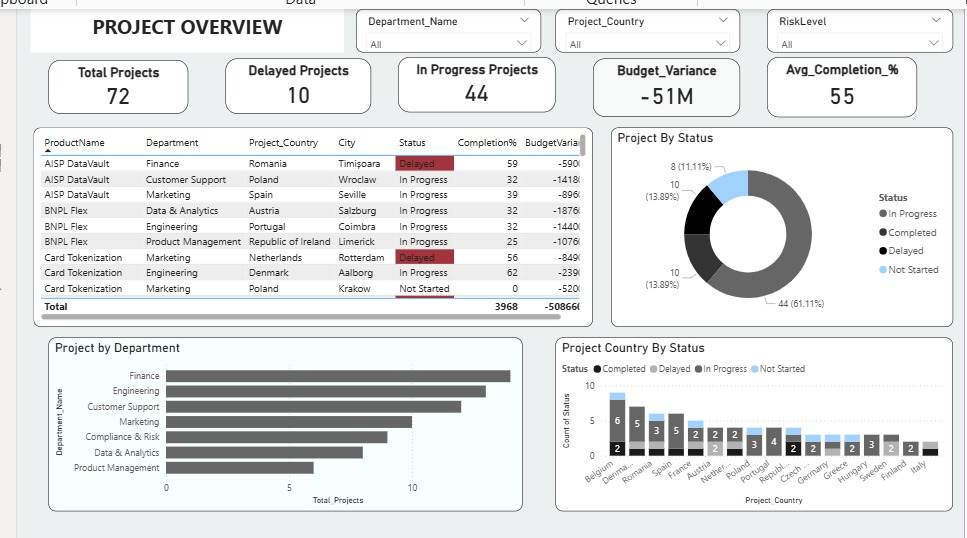

Layout of this report page (visuals, bound fields, positions):
{"tool":"powerbi","page":{"name":"Project Analysis","canvas":[1280,720],"ordinal":0},"visuals":[{"type":"card","title":"Total Projects","fields":{"Values":["measure.Total_Projects"]},"box":[42.5,68.9,188.4,72.9],"z":0},{"type":"card","title":"Delayed Projects","fields":{"Values":["measure.Delayed_Projects"]},"box":[281.5,66.8,196.5,74.9],"z":1000},{"type":"card","title":"In Progress Projects","fields":{"Values":["measure.Projects_On_Track"]},"box":[514.4,64.8,212.7,74.9],"z":2000},{"type":"card","title":"Avg_Completion_%","fields":{"Values":["measure.Average_Completion_%"]},"box":[1012.7,64.8,202.5,81],"z":3000},{"type":"card","title":"Budget_Variance","fields":{"Values":["measure.Budget_Variance"]},"box":[777.7,66.8,198.5,79],"z":4000},{"type":"textbox","box":[18.2,0,423.3,58.7],"z":5000},{"type":"clusteredBarChart","title":"Project by Department","fields":{"Category":["Departments.Department_Name"],"Y":["measure.Total_Projects"]},"box":[42.5,443.5,640,234.9],"z":6000},{"type":"tableEx","fields":{"Values":["Projects.ProductName","Departments.Department_Name","Projects.Project_Country","Projects.City","Projects.Status","Sum(Projects.CompletionPercentage)","measure.Budget_Variance"]},"box":[22.3,160,755.4,269.4],"z":7000},{"type":"slicer","fields":{"Values":["Departments.Department_Name"]},"box":[458.3,0,250,58.3],"z":8000},{"type":"slicer","fields":{"Values":["Projects.Project_Country"]},"box":[727.1,0,249.1,58.7],"z":9000},{"type":"slicer","fields":{"Values":["Projects.RiskLevel"]},"box":[1012.7,0,251.1,58.7],"z":10000},{"type":"columnChart","title":"Project Country By Status","fields":{"Category":["Projects.Project_Country"],"Y":["CountNonNull(Projects.Status)"],"Series":["Projects.Status"]},"box":[727.1,443.5,536.7,234.9],"z":11000},{"type":"donutChart","title":"Project By Status","fields":{"Category":["Projects.Status"],"Y":["CountNonNull(Projects.ProjectID)"]},"box":[802,160,461.8,269.4],"z":12000}]}

Visuals, with their boxes on the page's 1280x720 design canvas (x1, y1, x2, y2). These are canvas units, not pixel positions in the 967x538 screenshot, which may show the page scaled, cropped or inside an application window:
"Total Projects" card: 42, 69, 231, 142
"Delayed Projects" card: 282, 67, 478, 142
"In Progress Projects" card: 514, 65, 727, 140
"Avg_Completion_%" card: 1013, 65, 1215, 146
"Budget_Variance" card: 778, 67, 976, 146
textbox: 18, 0, 442, 59
"Project by Department" clusteredBarChart: 42, 444, 682, 678
tableEx - Projects.ProductName x Departments.Department_Name: 22, 160, 778, 429
slicer - Departments.Department_Name: 458, 0, 708, 58
slicer - Projects.Project_Country: 727, 0, 976, 59
slicer - Projects.RiskLevel: 1013, 0, 1264, 59
"Project Country By Status" columnChart: 727, 444, 1264, 678
"Project By Status" donutChart: 802, 160, 1264, 429
